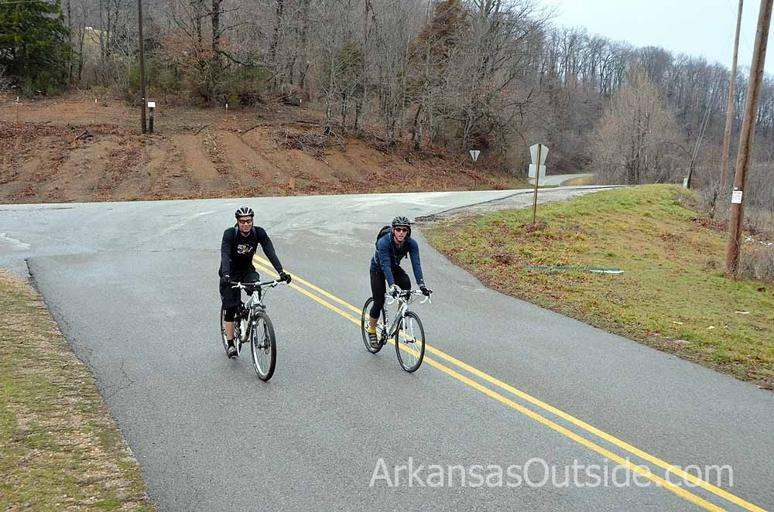non-vehicle: (219, 277, 289, 382), (360, 286, 433, 373)
